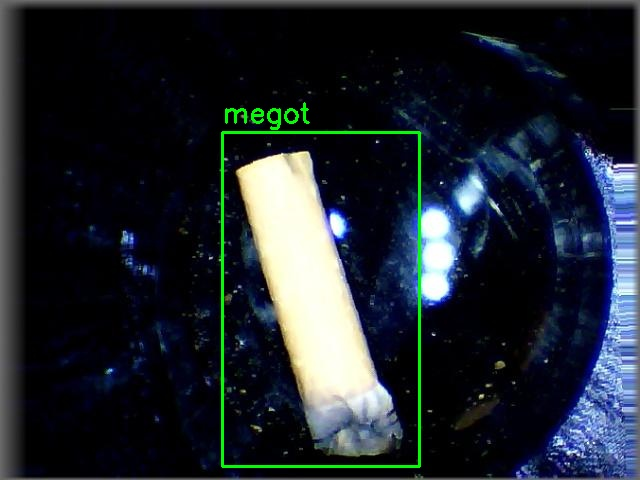megot: (222, 132, 419, 466)
